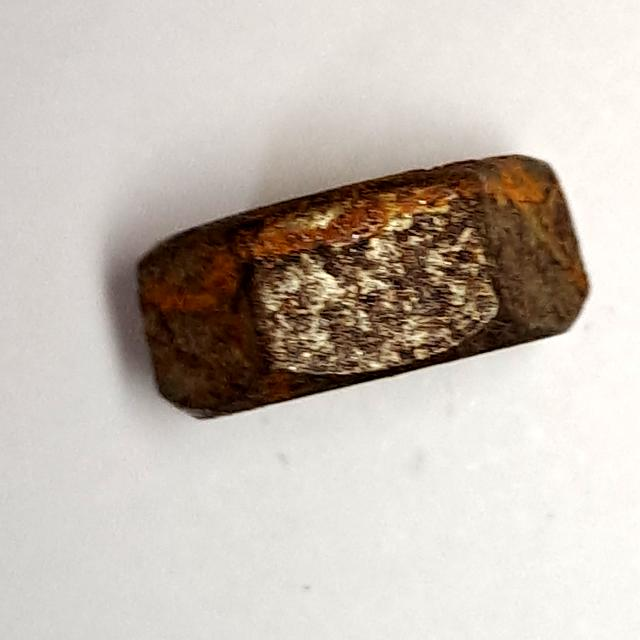Side_Rust: (123, 136, 600, 433)
